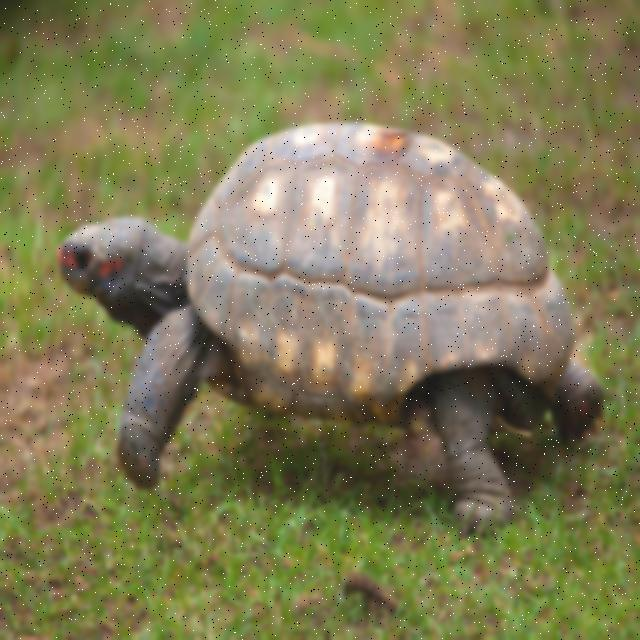tortoise: (58, 122, 602, 528)
